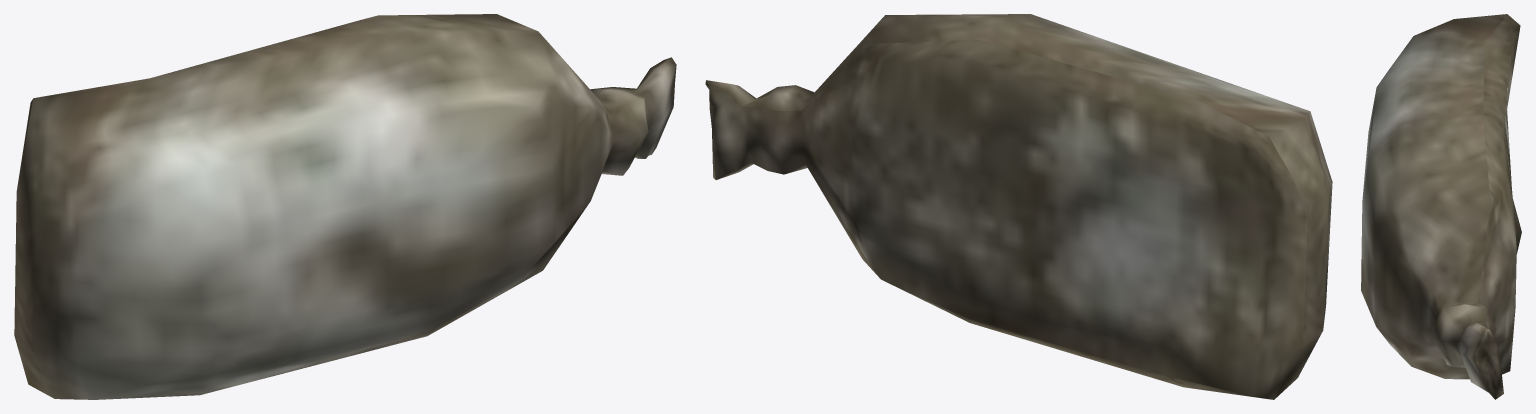
The model's file is military_sandbag_snow_single_flat.glb.
3 renders of one model, left to right at view 1: azimuth 30°, elevation 25°; view 2: azimuth 150°, elevation 25°; view 3: azimuth 270°, elevation 25°, orthographic. The views are drawn at different scales.
Size of the model in its own units: 29.8 by 13.92 by 8.14.
Materials: 1 (1 with a texture image).
